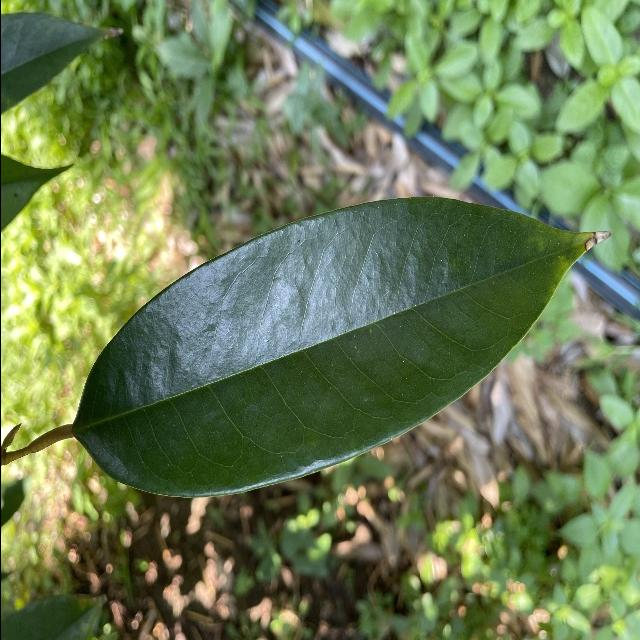No Disease: (61, 187, 615, 505)
